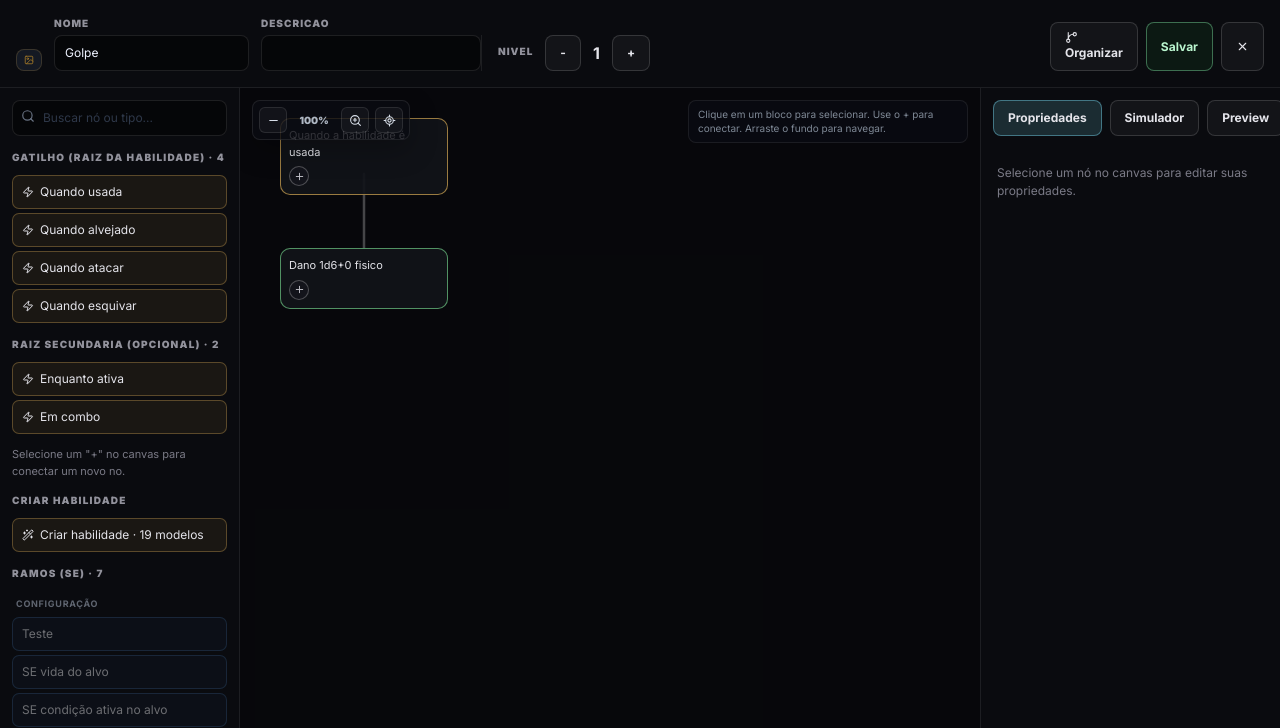
Test: GraphEditor › selecionar um nó mostra suas propriedades no inspector
What coordinates should you click on to do the following:
click the element with test id "graph-node-dano"
I would click on:
 (364, 278)
Its box is x1=280 y1=248 x2=448 y2=308.
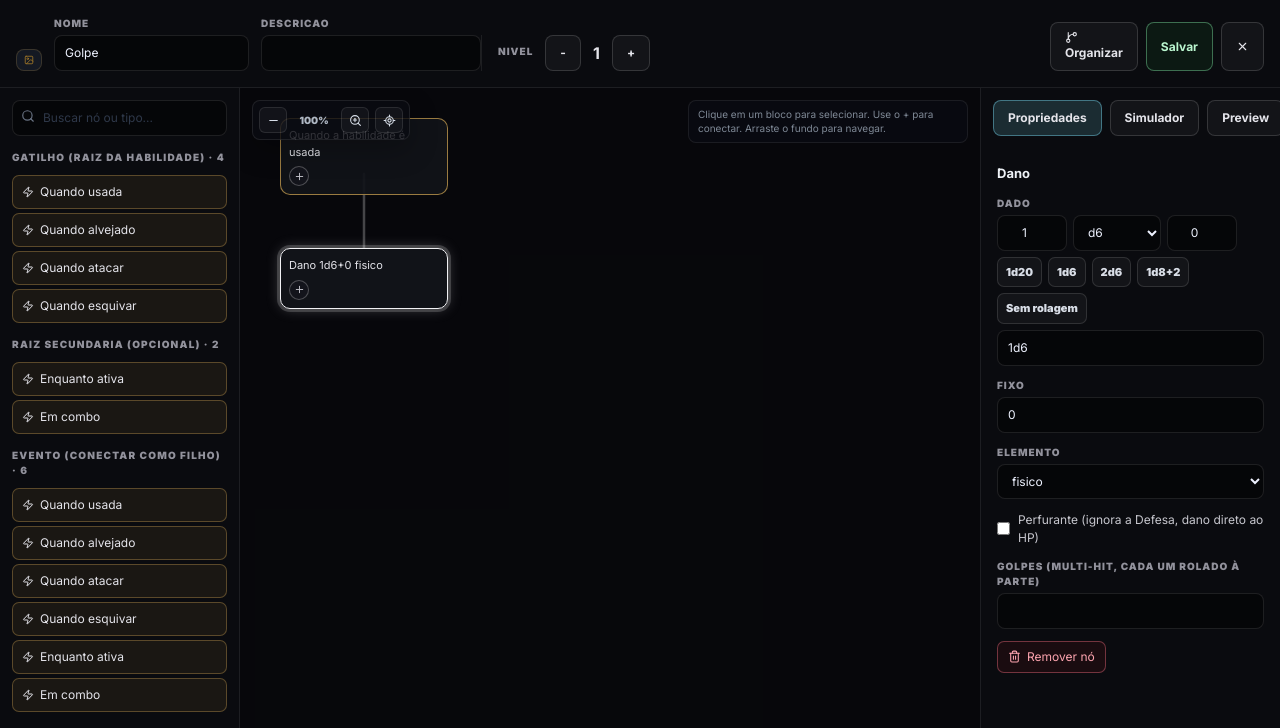
Check: the number field labelled "Fixo" holds "0", box x1=997 y1=396 x2=1264 y2=432
